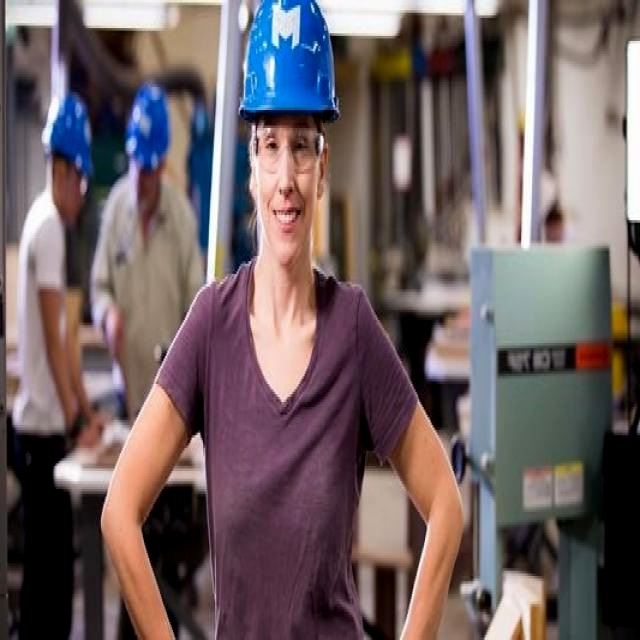Con_Casco: (237, 0, 338, 256)
Sin_Chaleco: (198, 261, 366, 640)
